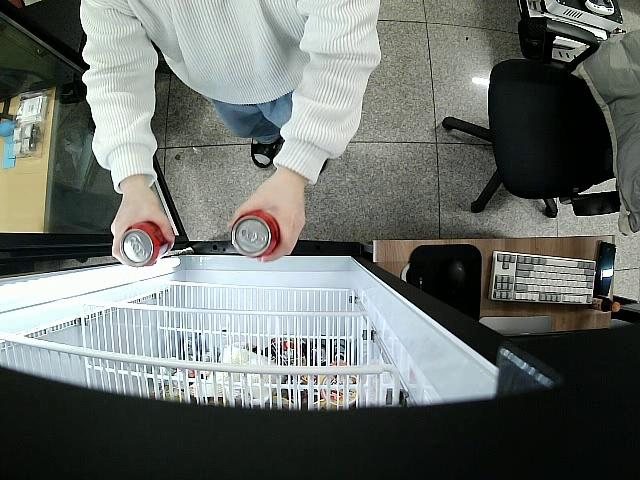00_hand: (229, 181, 309, 261), (110, 185, 176, 268)
11_cocaColaZero: (233, 209, 280, 260), (122, 219, 174, 265)
